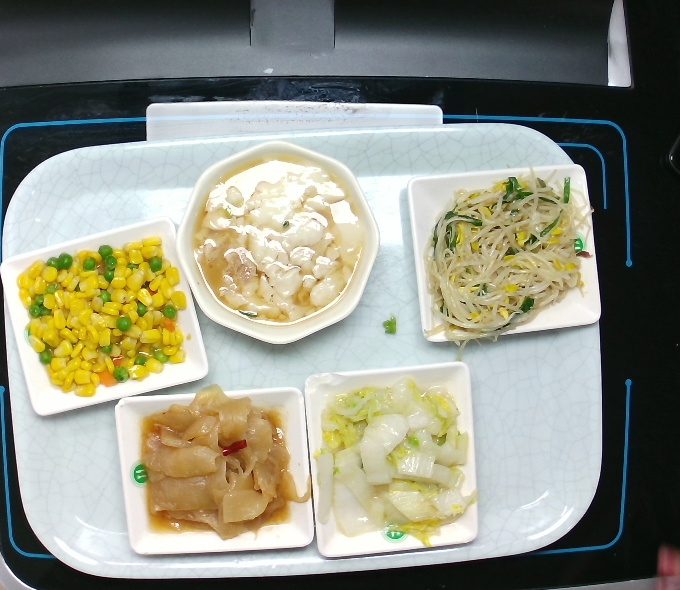wcq-DaBaiCai: (310, 373, 483, 555)
wcq-DongGua: (134, 379, 320, 543)
wcq-DouYa: (416, 163, 596, 364)
wcq-ShuiZhengDan: (184, 146, 373, 334)
wcq-TianMiTianDou: (13, 233, 195, 401)
